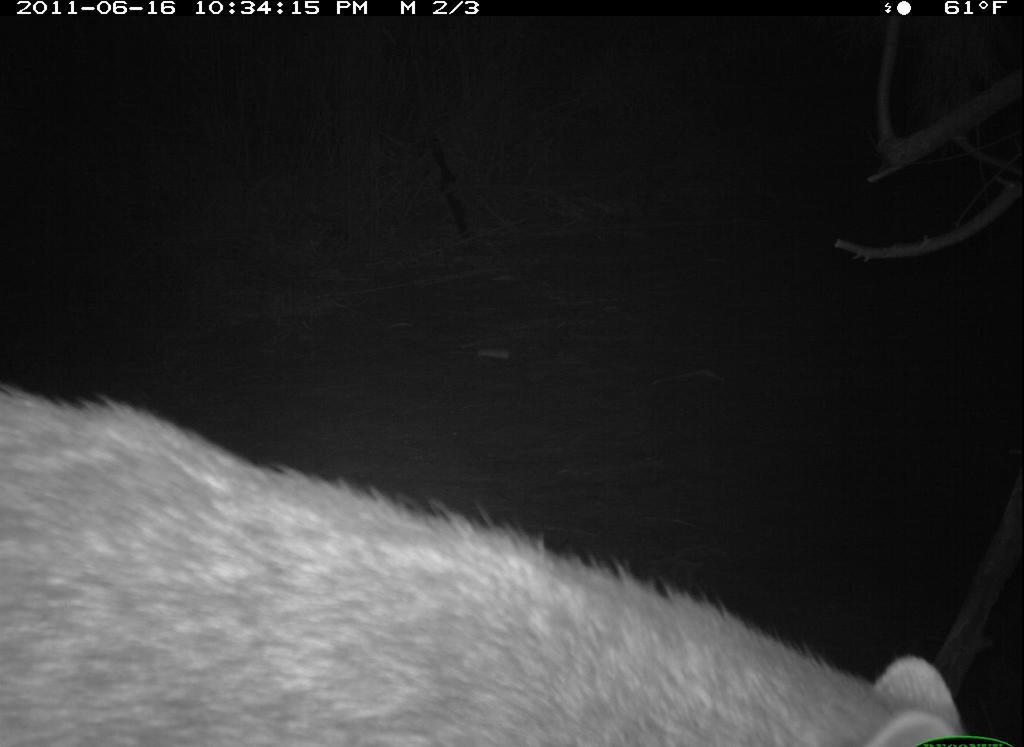raccoon: (9, 348, 964, 747)
